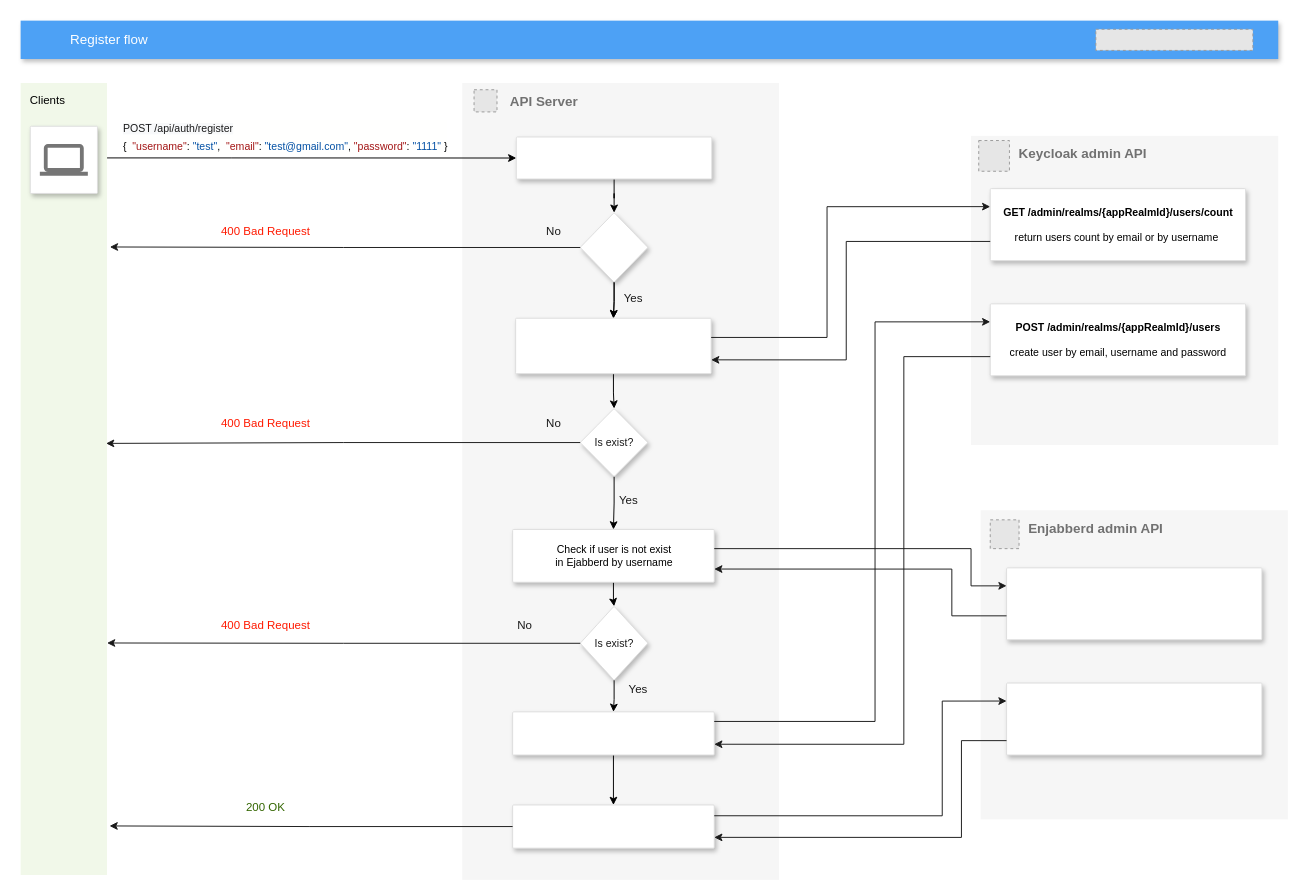
Some shapes in this 1304 by 896 pixel diagram are drawn without their labels. Grey dashed boxes stand in for pictures. The centre of each missing label's shape, as x and y in pixels:
Check if user is not exist in Keycloak by email and username: [614,346]
Is valid?: [614,248]
POST /admin-api/check_account return true if user exists by username: [1135,605]
POST /admin-api/register create user by username and random generated password: [1135,720]
Register user in Ejabberd: [614,827]
Register user in Keycloak: [614,734]
Validate form data: [614,159]
